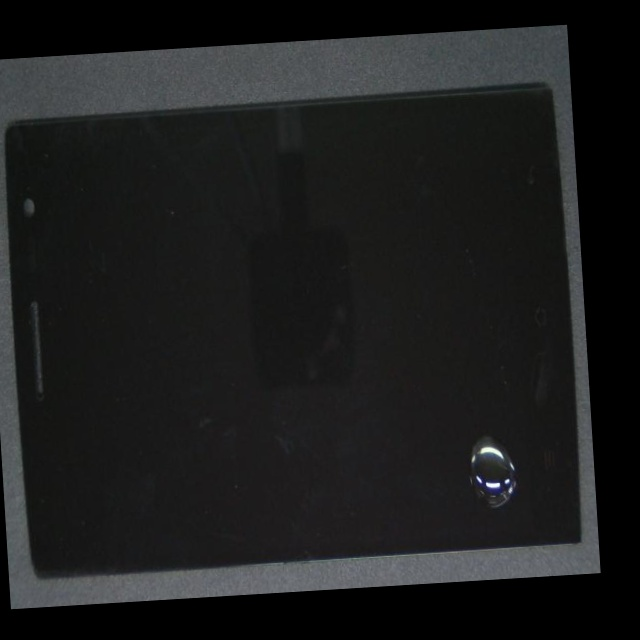oil: (248, 252, 601, 594)
